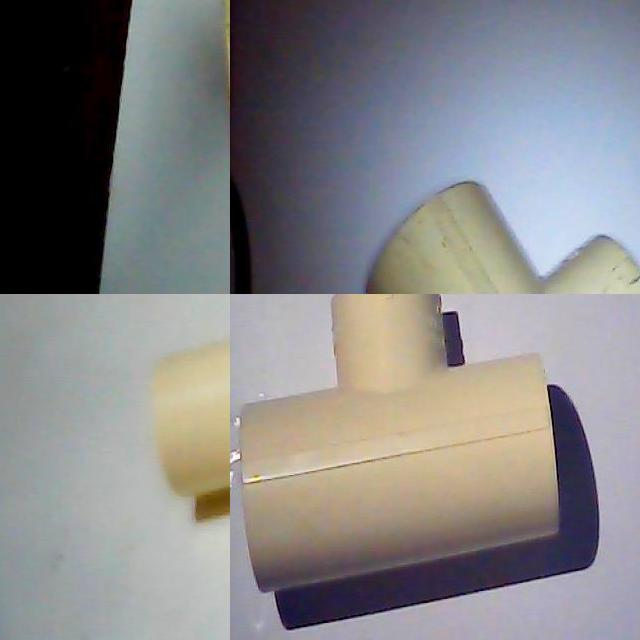T Joint: (240, 294, 562, 618), (364, 182, 640, 294), (153, 338, 230, 499)
